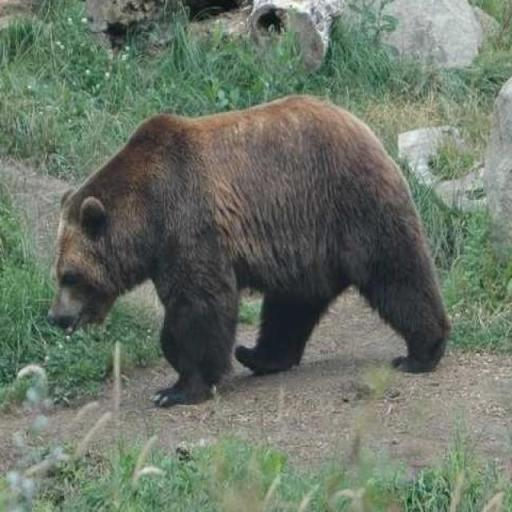Bear: (46, 92, 451, 408)
